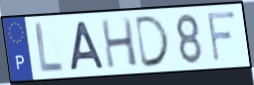8: (173, 12, 205, 66)
A: (69, 19, 107, 73)
D: (134, 13, 173, 70)
F: (205, 9, 238, 64)
H: (99, 16, 140, 70)
L: (33, 21, 65, 74)
